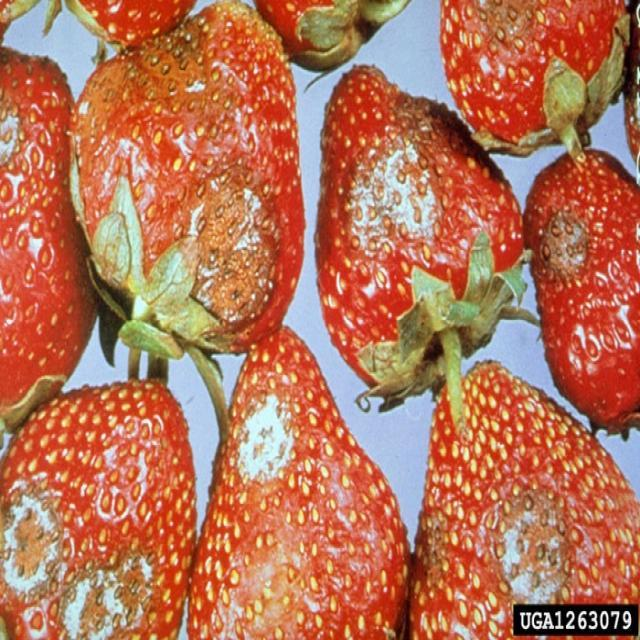Mancha negra Antracnosis: (66, 14, 304, 336), (200, 334, 412, 638), (318, 75, 530, 378), (414, 364, 636, 640), (5, 400, 188, 635), (533, 139, 640, 419), (6, 39, 87, 406), (438, 0, 634, 139)
